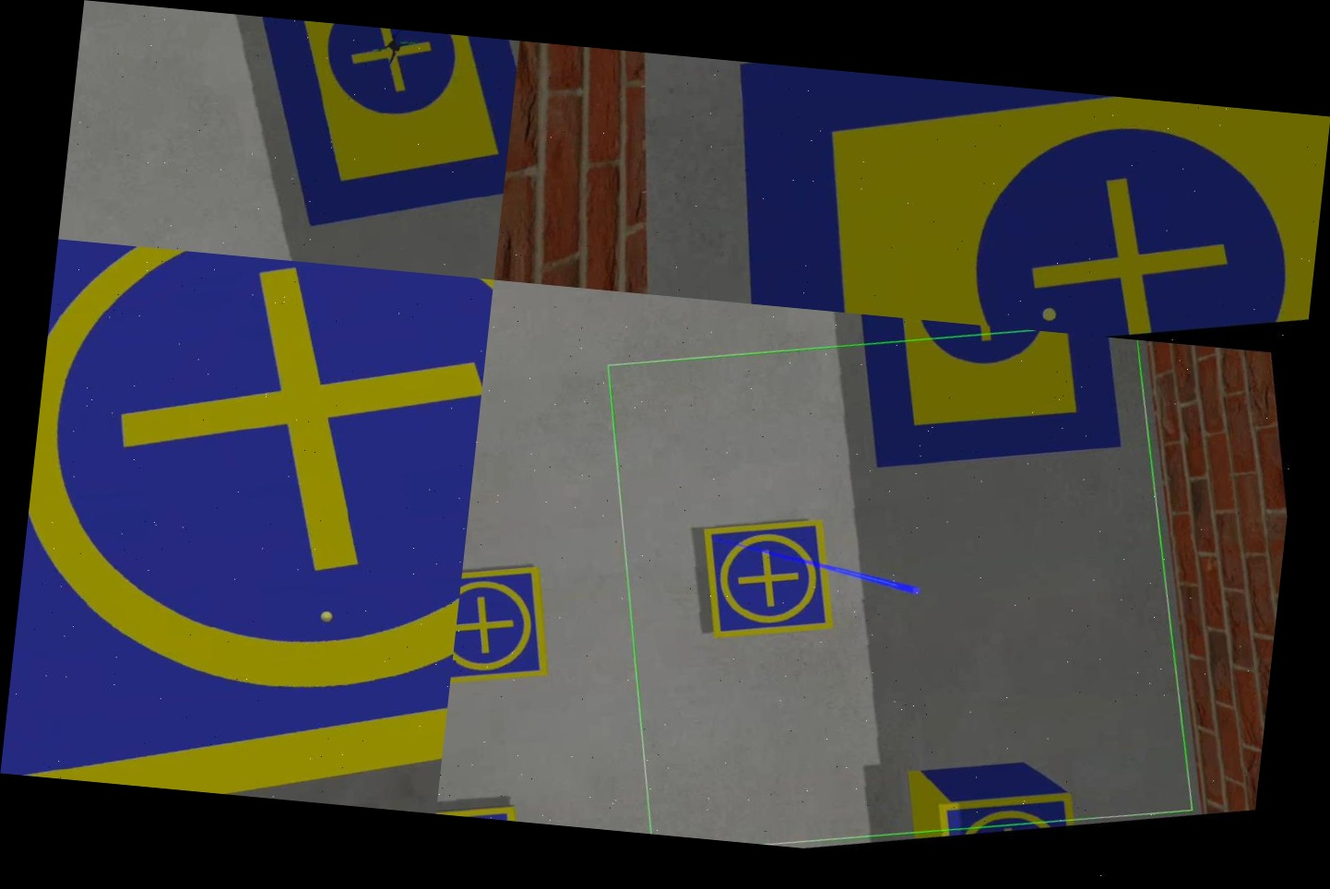large_base: (692, 59, 1330, 356), (203, 14, 520, 251), (821, 312, 1136, 494)
small_base: (0, 239, 493, 813), (689, 507, 843, 651), (449, 560, 560, 701), (931, 779, 1081, 854), (436, 791, 528, 822)
